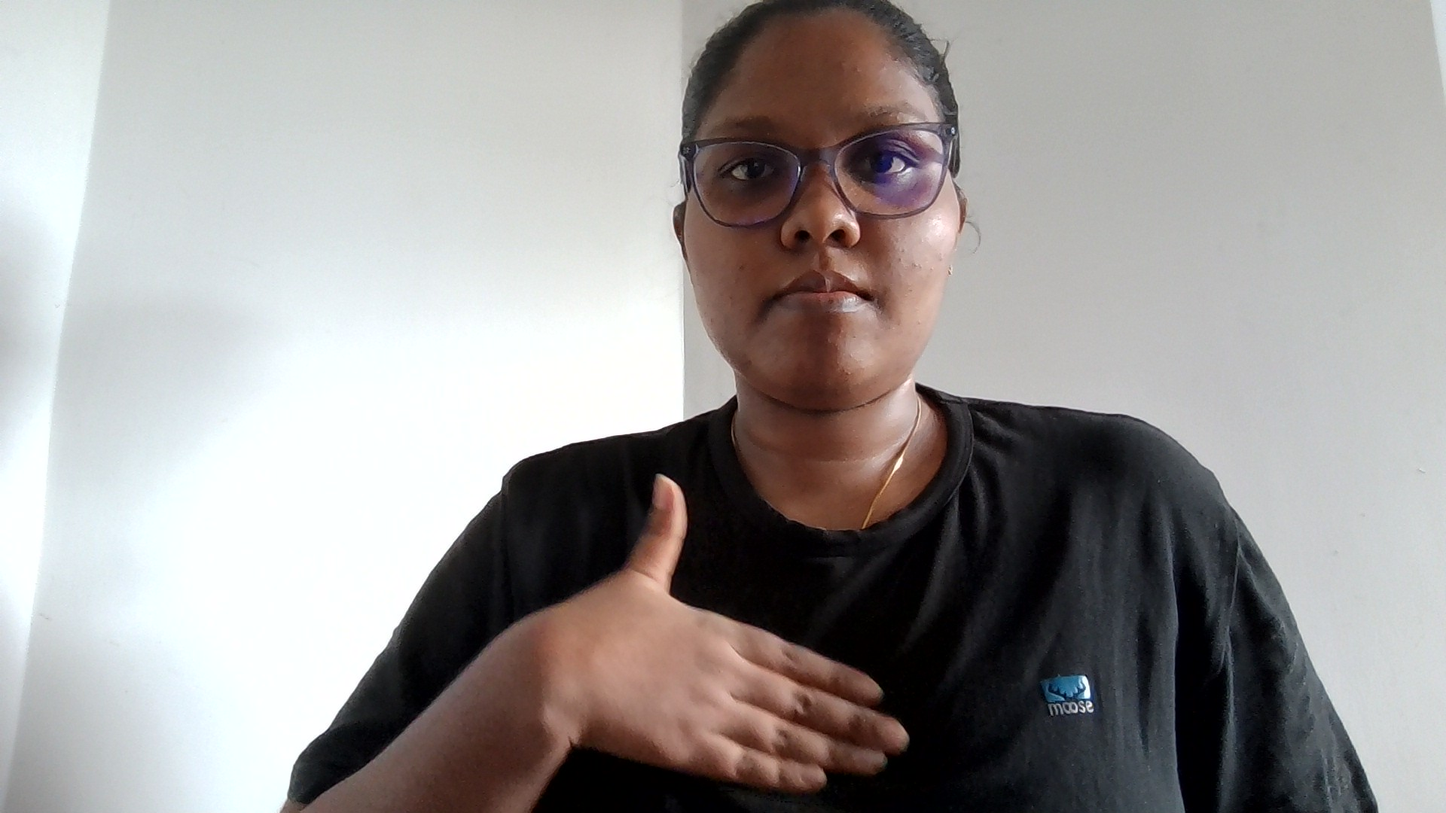Please: (499, 505, 1008, 813)
